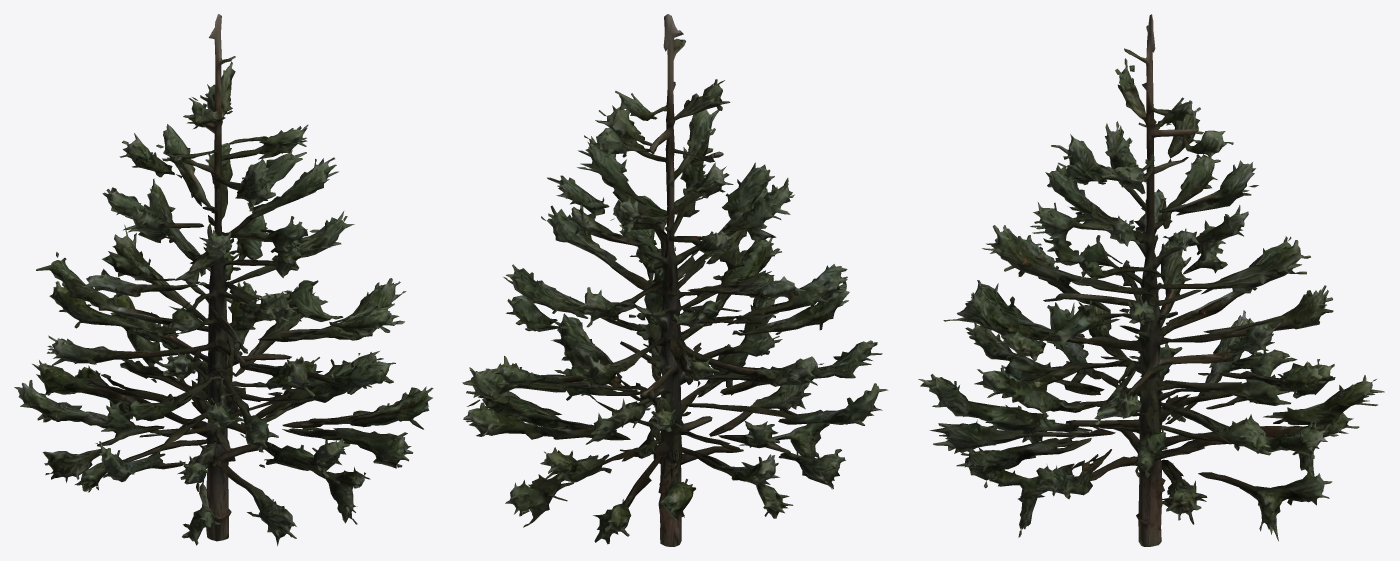
File: nature-tree-pine.glb
3 renders of one model, left to right at view 1: azimuth 30°, elevation 25°; view 2: azimuth 150°, elevation 25°; view 3: azimuth 270°, elevation 25°, orthographic.
Parts seen in each view (by area): view 1: tripo_node_8851b961-5379-46d7-b068-8812bd51c2b1; view 2: tripo_node_8851b961-5379-46d7-b068-8812bd51c2b1; view 3: tripo_node_8851b961-5379-46d7-b068-8812bd51c2b1.
Part boxes in pixels (x1=…): tripo_node_8851b961-5379-46d7-b068-8812bd51c2b1: x1=14, y1=14, x2=433, y2=545; tripo_node_8851b961-5379-46d7-b068-8812bd51c2b1: x1=462, y1=14, x2=888, y2=546; tripo_node_8851b961-5379-46d7-b068-8812bd51c2b1: x1=918, y1=14, x2=1384, y2=546.
Bounding box in the file's own units: 7.21 × 10 × 8.01.
1 material, 1 textured.
